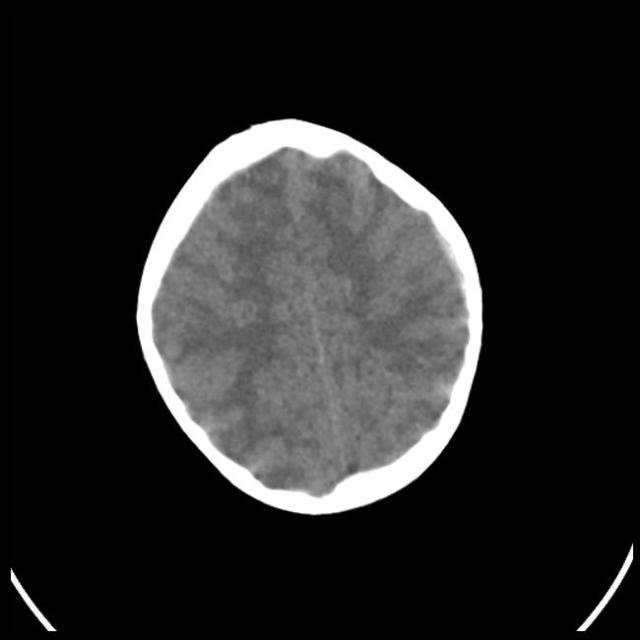lesion: (418, 196, 490, 336)
